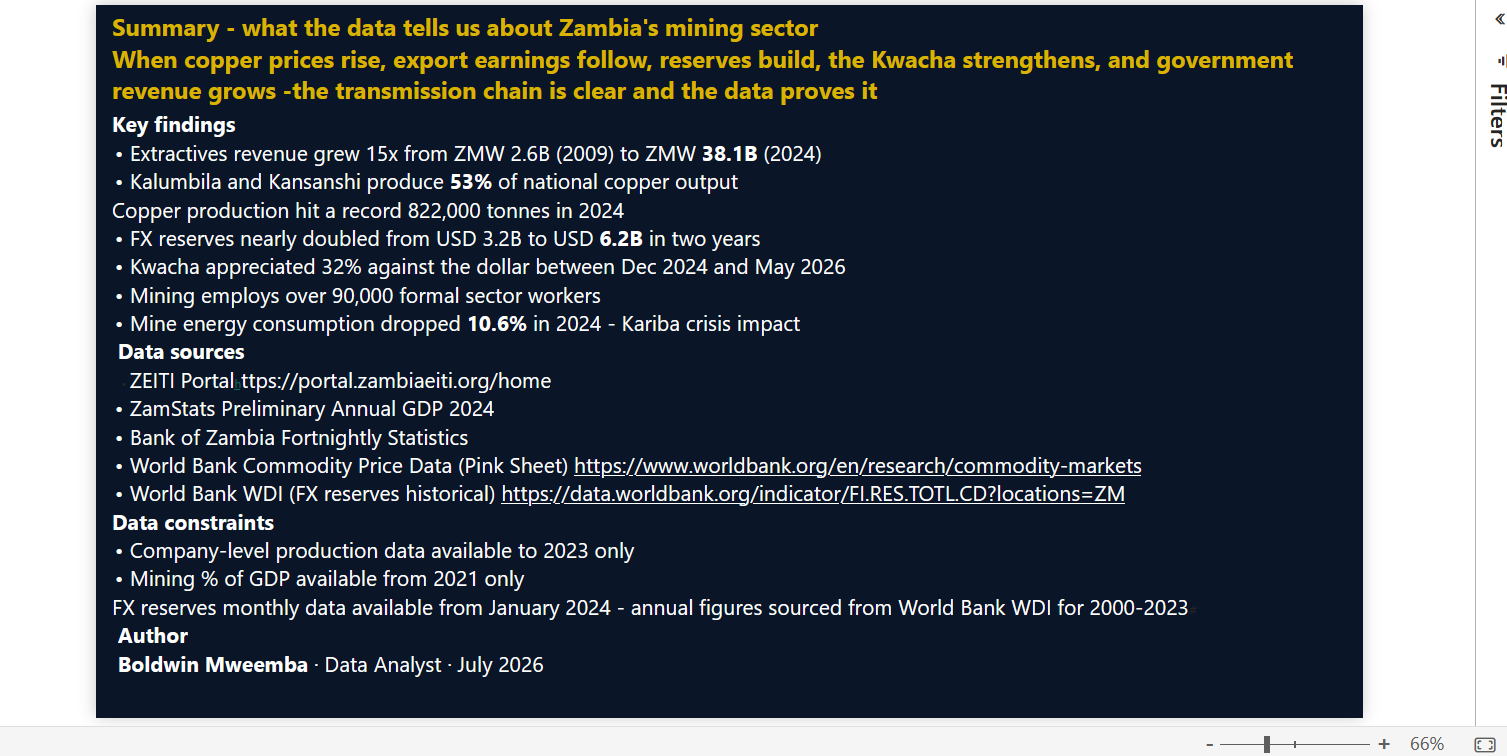

The page's visual inventory and layout, read from the dashboard file:
{"tool":"powerbi","page":{"name":"Summary","canvas":[1280,720],"ordinal":6},"visuals":[{"type":"textbox","box":[10.6,0,1268.8,110.3],"z":0},{"type":"textbox","box":[10.8,99.9,1269,620.7],"z":1000}]}

Visuals, with their boxes on the page's 1280x720 design canvas (x1, y1, x2, y2). These are canvas units, not pixel positions in the 1507x756 screenshot, which may show the page scaled, cropped or inside an application window:
textbox: bbox=[11, 0, 1279, 110]
textbox: bbox=[11, 100, 1280, 721]
